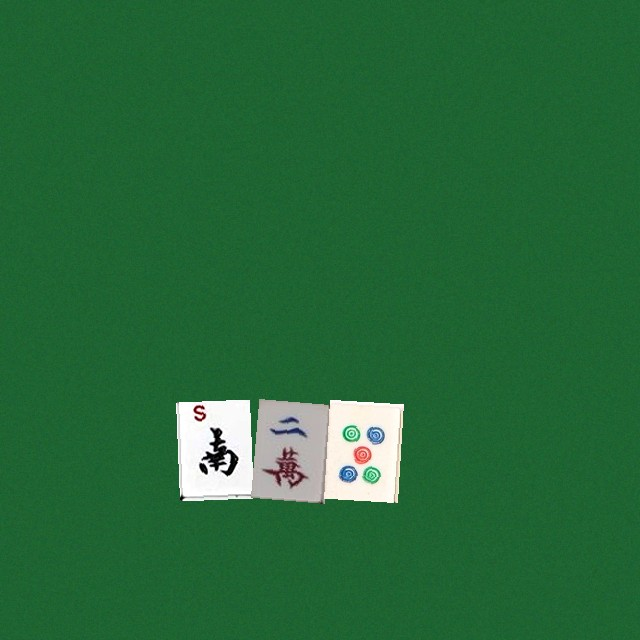tile: (176, 399, 250, 498), (250, 399, 324, 498), (324, 399, 398, 498)
